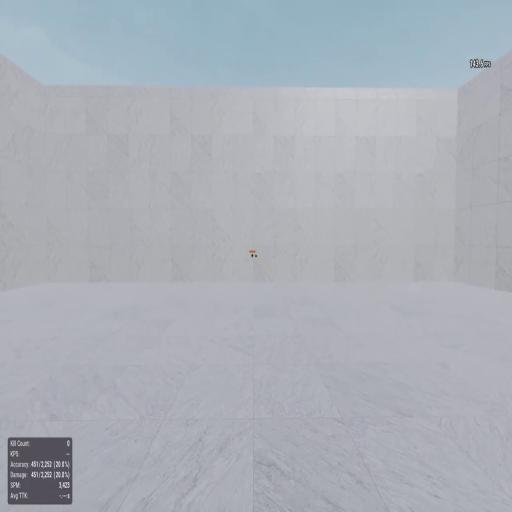Crosshair: (255, 254, 257, 258)
Target: (252, 254, 254, 258)
